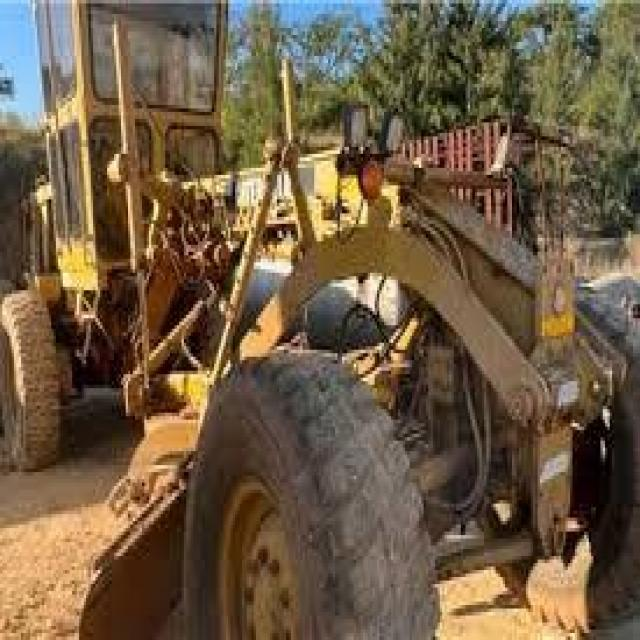Grader: (5, 0, 633, 630)
